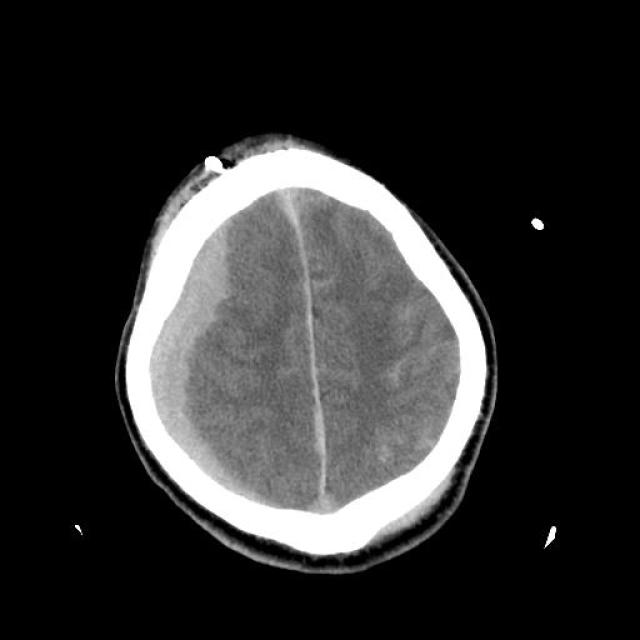Subarachnoid: (378, 330, 458, 401)
Subdural: (140, 202, 261, 498), (294, 380, 344, 534), (276, 165, 344, 253)
